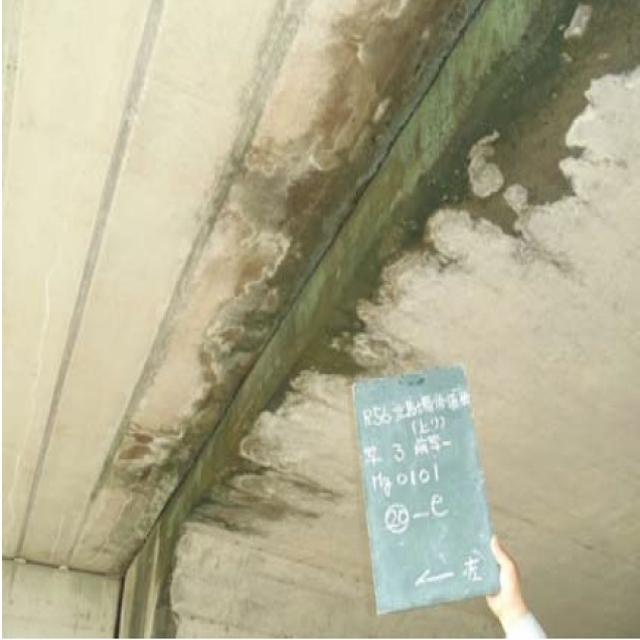leakage: (218, 9, 613, 442)
